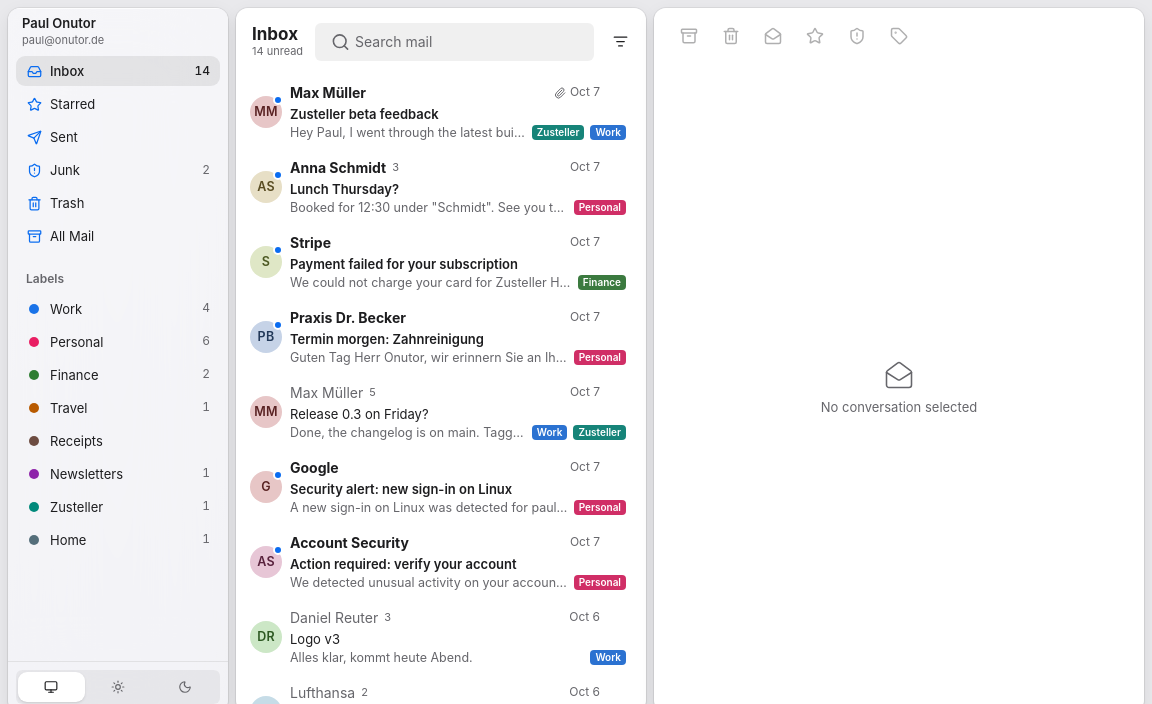
it: browsing › shows the inbox with an unread count and switches mailboxes and labels
This screenshot has width=1152, height=704.
Expected: the option that starts with "Max Müller" is shown, [244, 75, 638, 149]
Expected: the heading "Inbox" is shown, [252, 24, 303, 45]
Click the button "Trash" at (118, 203), box [16, 188, 220, 218]
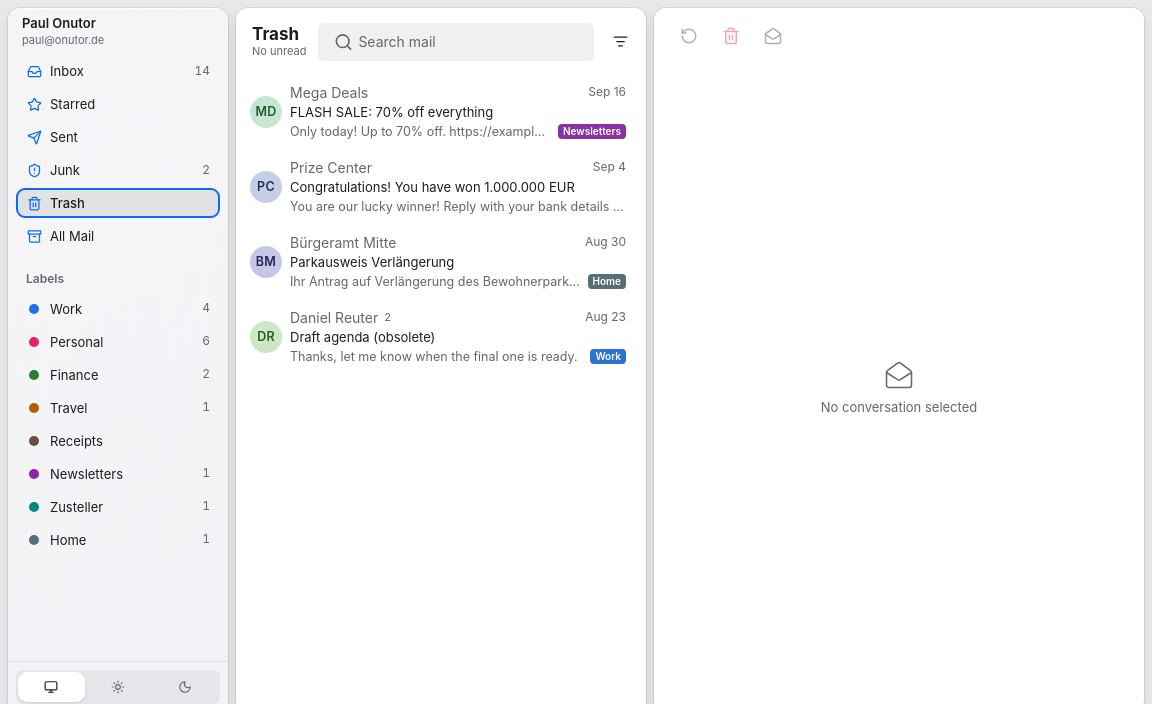
Now the heading "Trash" is shown, box [252, 24, 306, 45]
Now the option that starts with "Mega Deals" is shown, box [244, 75, 638, 149]
Click the button "Finance 2" at (118, 375), box [16, 360, 220, 390]
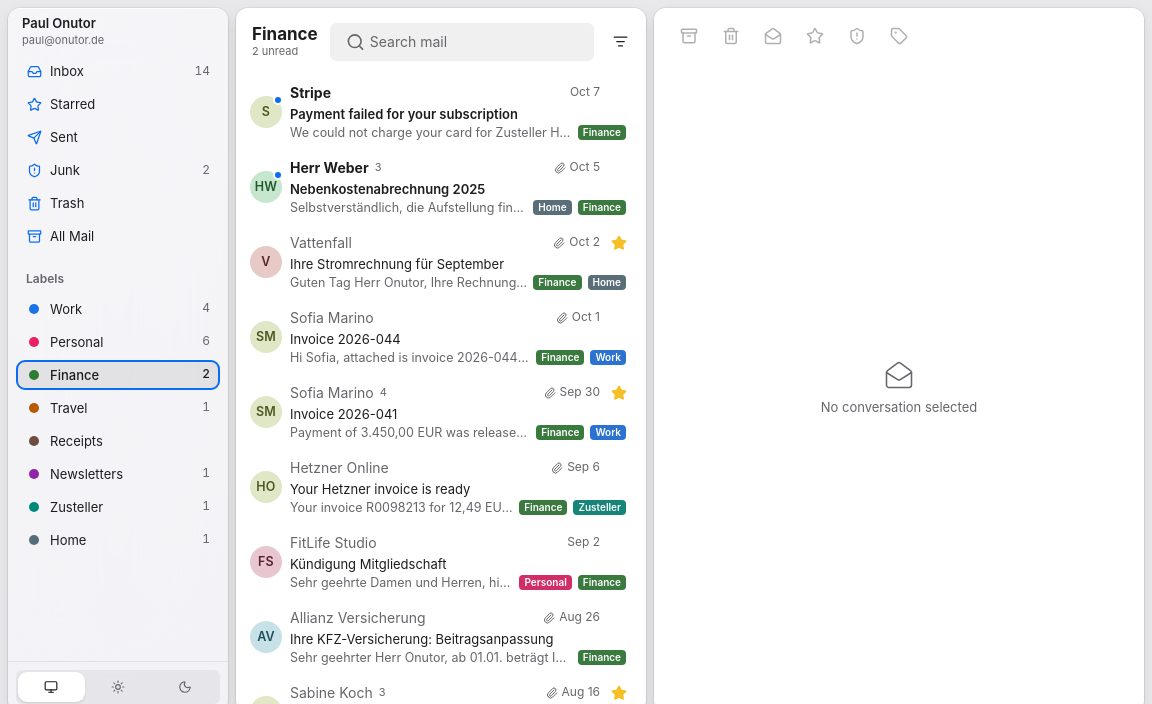
Now the heading "Finance" is shown, box [252, 24, 318, 45]
